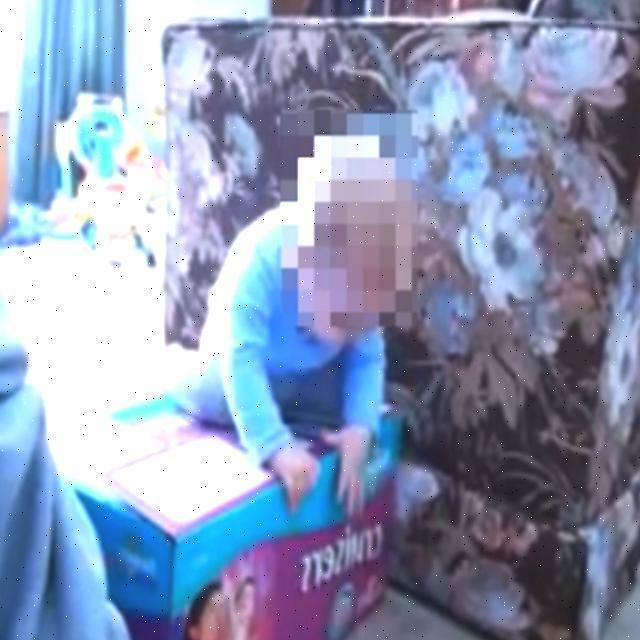child: (151, 136, 413, 525)
